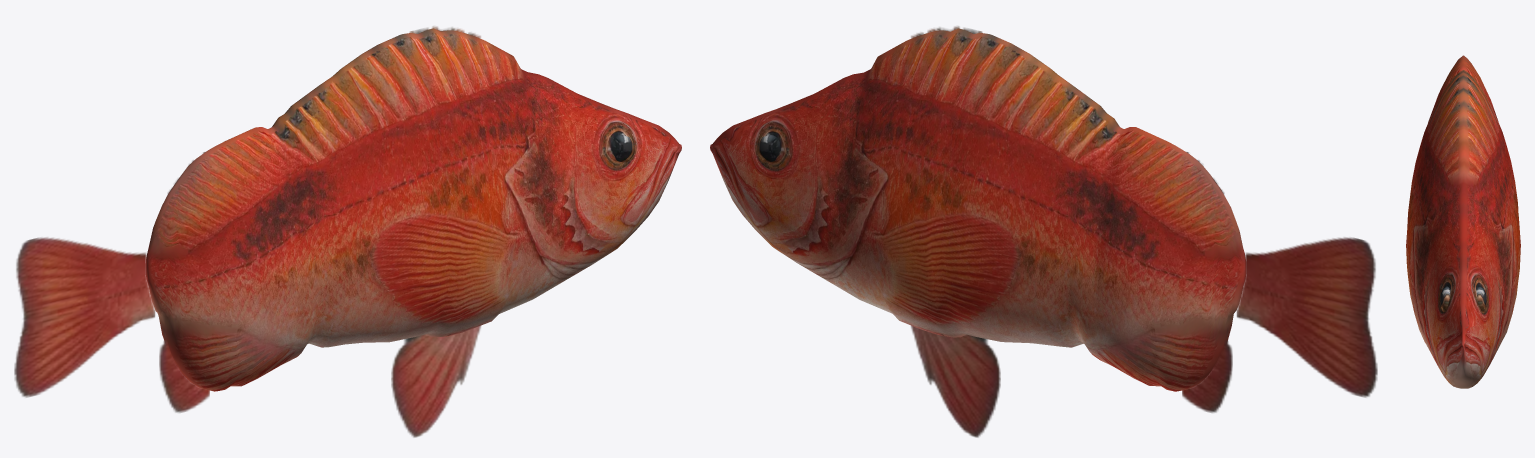
Rendered from fish-redfish.glb.
3 views of the same model, side by side, from view 1: azimuth 30°, elevation 25°; view 2: azimuth 150°, elevation 25°; view 3: azimuth 270°, elevation 25° (orthographic). The views are drawn at different scales.
Parts seen in each view (by area): view 1: sebastes_norvegicus; view 2: sebastes_norvegicus; view 3: sebastes_norvegicus.
Boxes of the visible parts, x1,y1,x2,y2 form: sebastes_norvegicus: [14, 26, 681, 437]; sebastes_norvegicus: [710, 26, 1377, 437]; sebastes_norvegicus: [1406, 55, 1520, 388].
Bounding box in the file's own units: 1.16 × 0.677 × 0.2032.
1 material, 1 textured.
